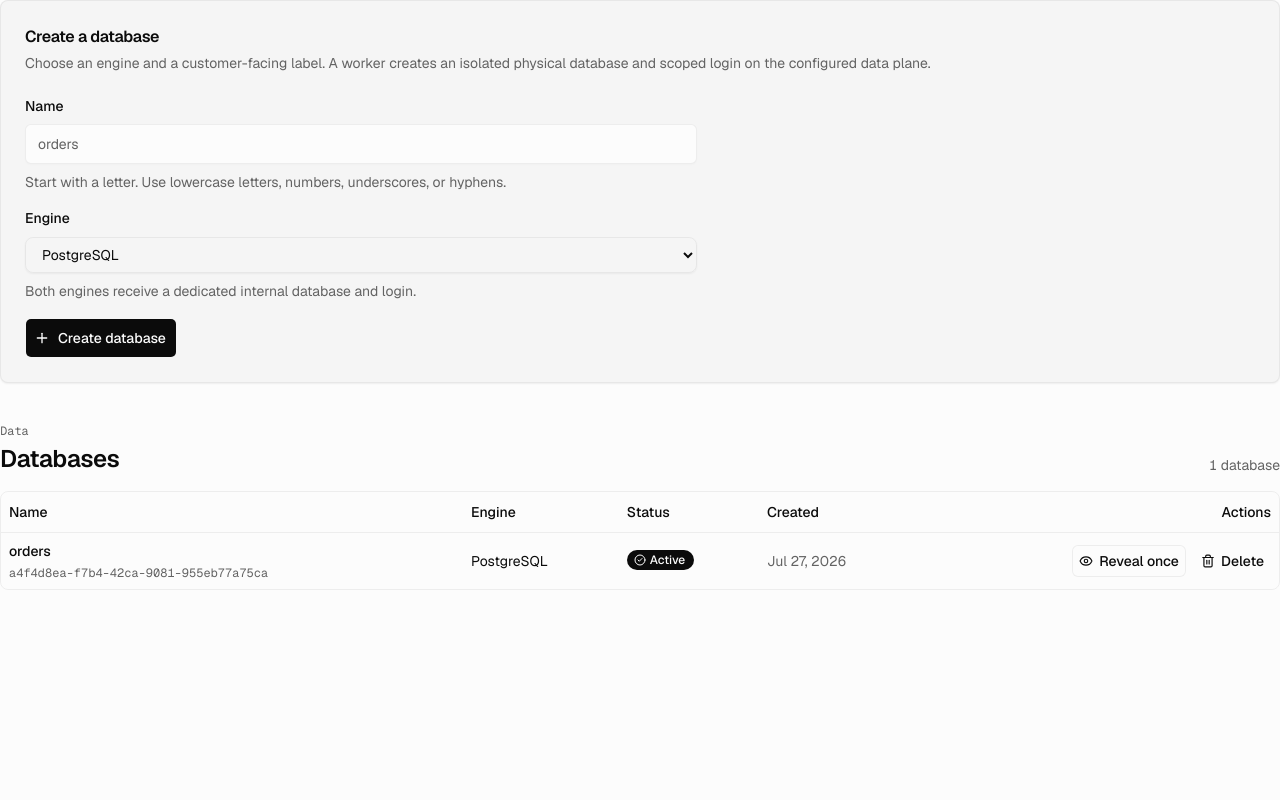
Test: DatabaseManager › requires confirmation, reveals credentials once, and marks them unavailable
The width and height of the screenshot is (1280, 800).
Click the button "Reveal once": [1129, 561] box [1072,545,1186,577]
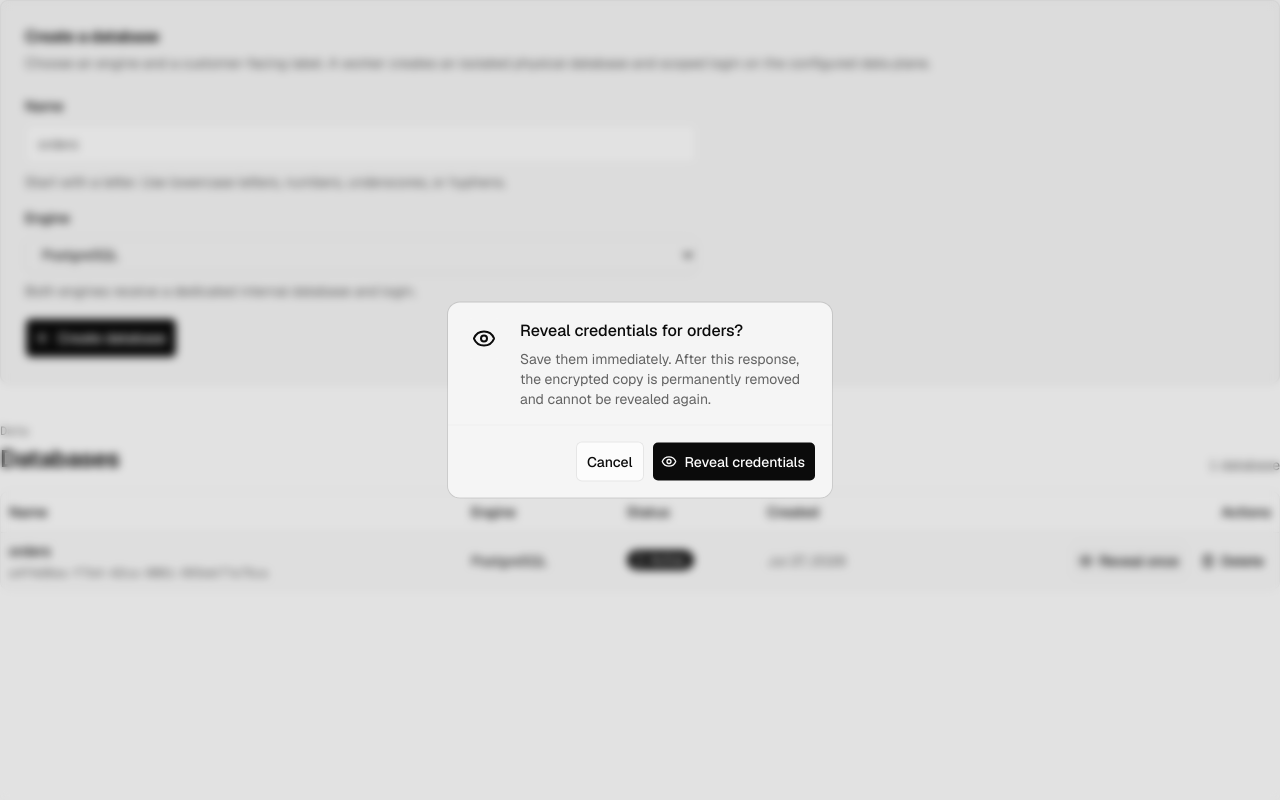
Expected: the heading "Reveal credentials for orders?" is shown, [520,318,743,342]
Click the button "Reveal credentials": [734, 462] box [652,442,816,482]
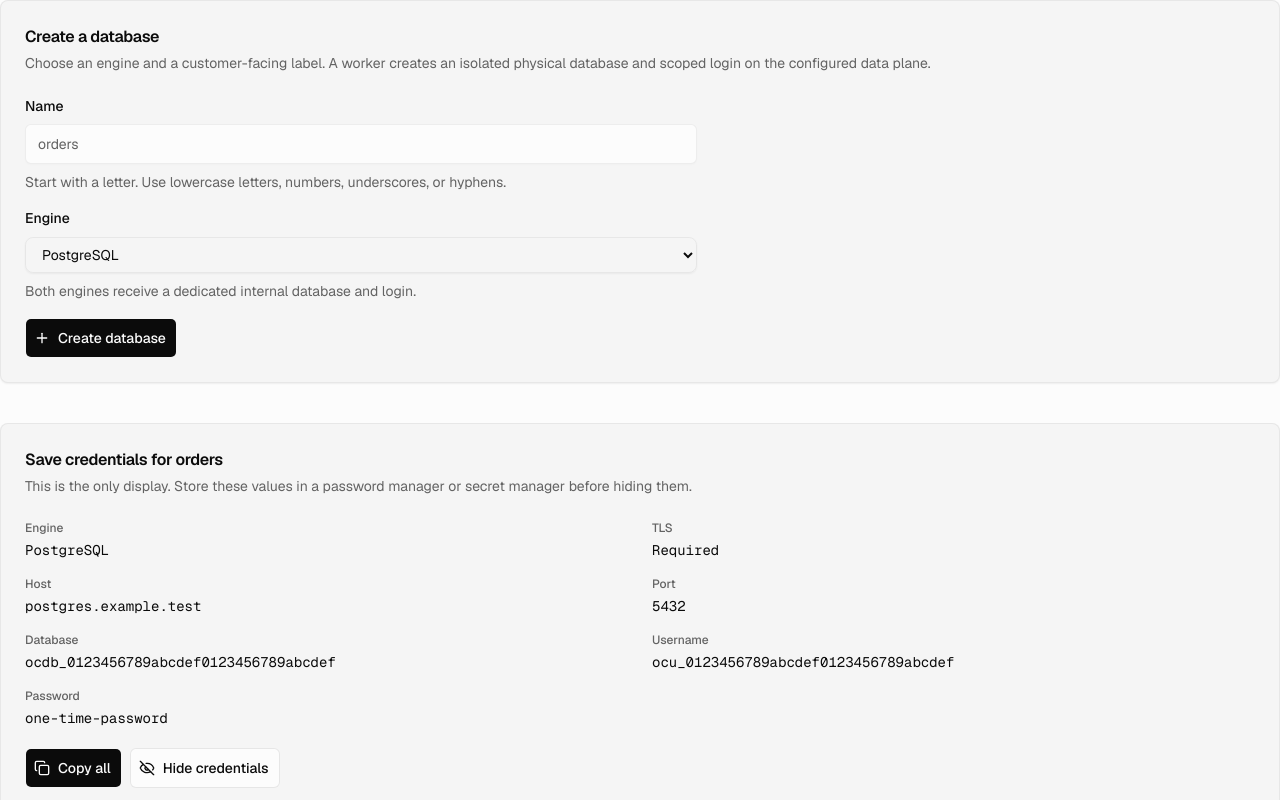
Expected: the text "one-time-password" is shown, [25,708,168,726]
Expected: the text "Save credentials for orders" is shown, [25,448,223,470]
Expected: the button "Reveal once" is gone
